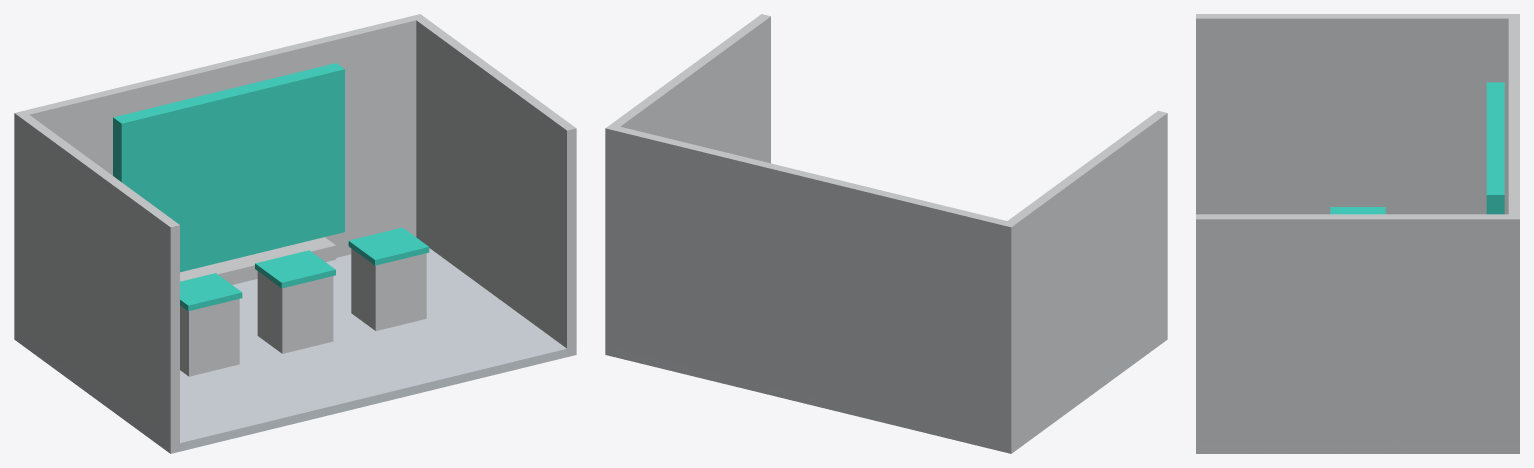
3 renders of one model, left to right at view 1: azimuth 30°, elevation 25°; view 2: azimuth 150°, elevation 25°; view 3: azimuth 270°, elevation 25°, orthographic. The views are drawn at different scales.
Visible parts, largest first — view 1: Exhibition Booth Concept; view 2: Exhibition Booth Concept; view 3: Exhibition Booth Concept.
Part boxes in pixels (x1,y1,x2,y2): Exhibition Booth Concept: (14, 14, 576, 453); Exhibition Booth Concept: (605, 14, 1167, 453); Exhibition Booth Concept: (1196, 14, 1519, 453).
Bounding box in the file's own units: 6 × 3.2 × 4.
